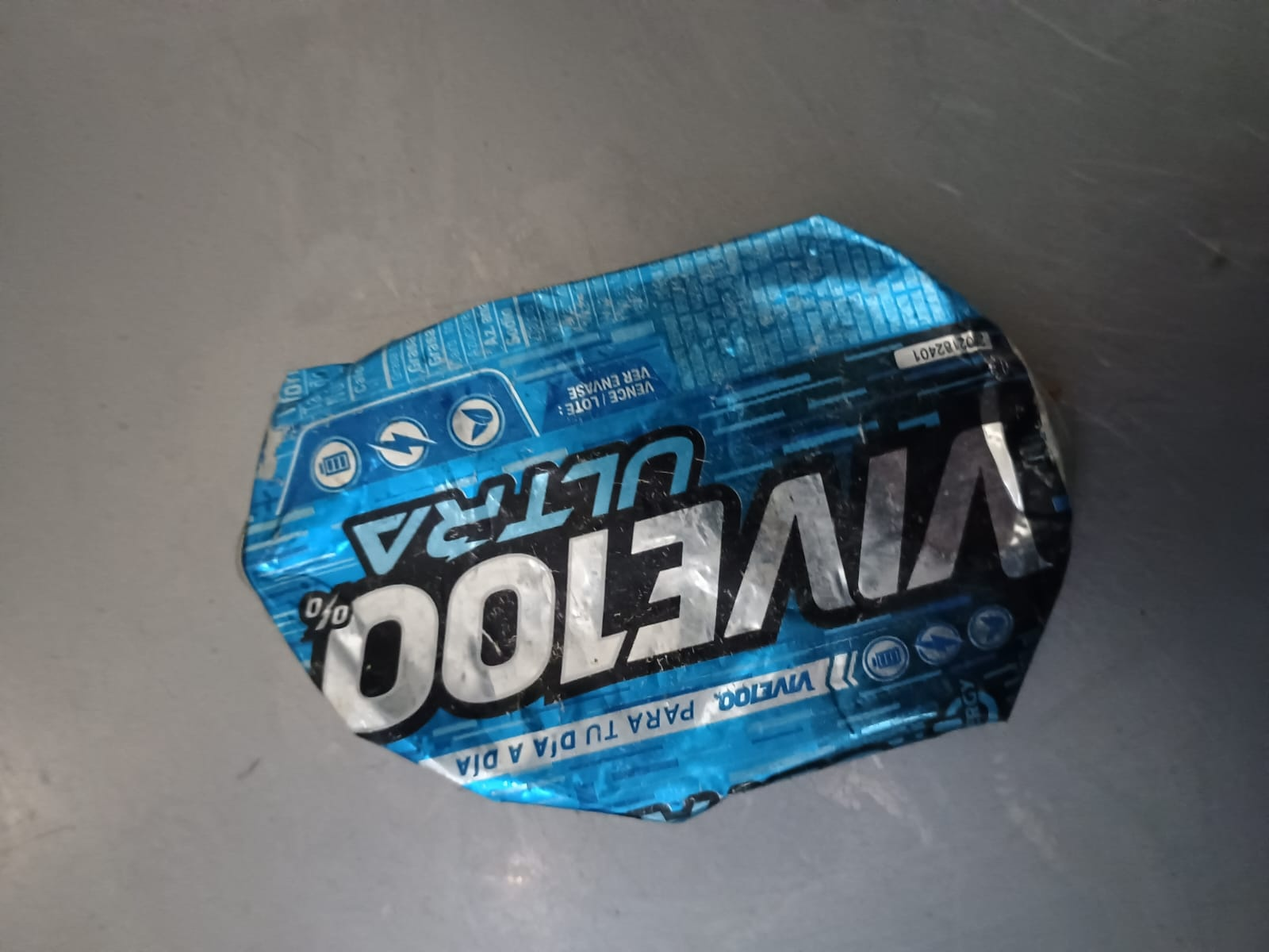Metal: (242, 214, 1073, 827)
